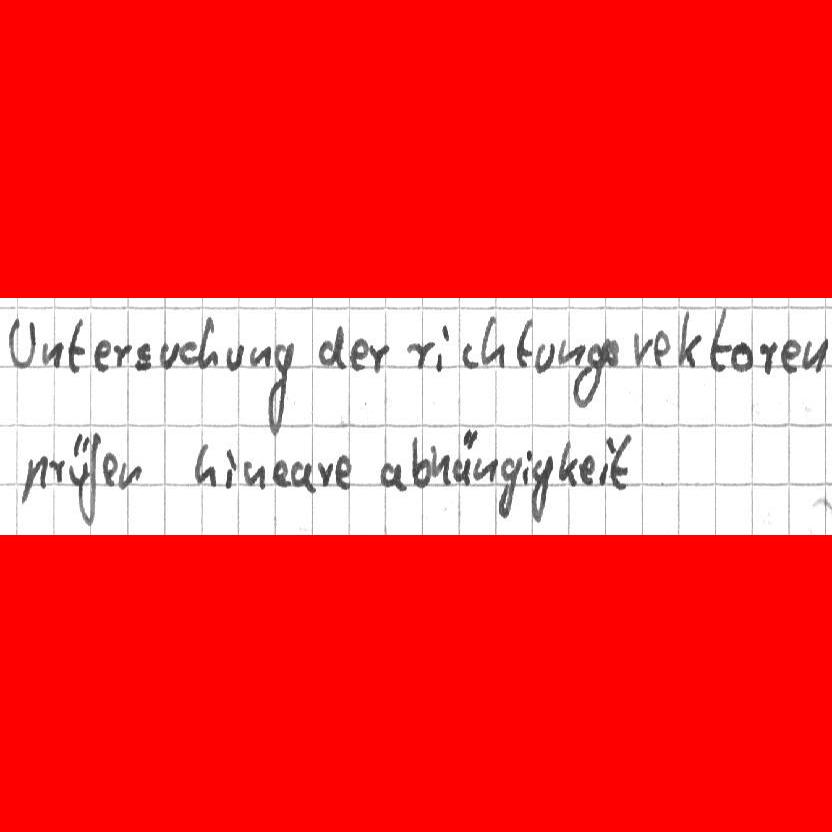Char: (266, 342, 299, 429), (69, 432, 97, 522), (571, 340, 604, 409), (677, 308, 703, 372), (451, 427, 478, 485), (6, 315, 34, 369), (480, 314, 506, 370), (409, 434, 435, 490), (497, 455, 520, 518), (532, 455, 553, 521), (609, 433, 632, 491), (317, 322, 344, 370), (709, 309, 728, 374), (193, 440, 217, 490), (22, 456, 46, 505), (66, 316, 86, 373), (199, 317, 219, 369), (801, 335, 827, 374), (379, 457, 406, 494), (514, 319, 533, 369), (598, 436, 616, 488), (558, 439, 578, 485), (434, 324, 452, 374), (558, 337, 584, 370), (631, 331, 653, 368), (406, 339, 431, 371), (729, 340, 752, 374), (349, 336, 370, 373), (291, 458, 313, 492), (436, 444, 453, 487), (652, 328, 670, 368), (759, 340, 779, 376), (39, 338, 62, 369), (242, 458, 265, 489), (534, 340, 554, 374), (118, 461, 142, 489), (782, 339, 801, 372), (223, 449, 239, 488), (371, 341, 391, 372), (600, 336, 621, 365), (336, 453, 352, 491), (472, 457, 495, 483), (161, 340, 181, 369), (94, 340, 112, 372), (226, 342, 245, 372), (135, 341, 154, 371), (272, 456, 290, 487), (113, 342, 133, 369), (462, 340, 480, 369), (46, 454, 64, 483), (103, 449, 117, 486), (248, 346, 271, 368), (580, 454, 595, 487), (316, 459, 333, 488), (182, 339, 198, 369), (521, 448, 532, 485)
